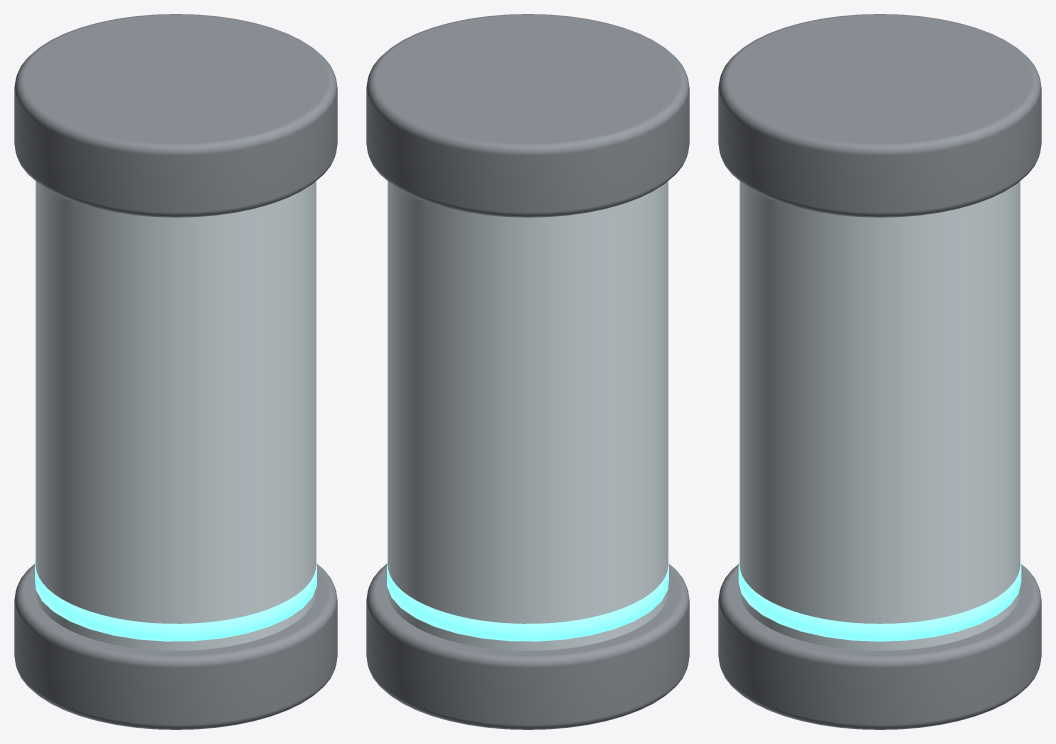
Rendered from ZH_ENV_SAMPLE_4_removable_sealed_vial.fbx.
The picture shows the model from 3 angles, left to right: view 1: azimuth 30°, elevation 25°; view 2: azimuth 150°, elevation 25°; view 3: azimuth 270°, elevation 25°; orthographic projection.
Visible parts, largest first — view 1: Specimen vessel | clear shell.005, Specimen vessel | cap.005, Specimen vessel | foot.005, Specimen vessel | seal.005; view 2: Specimen vessel | clear shell.005, Specimen vessel | cap.005, Specimen vessel | foot.005, Specimen vessel | seal.005; view 3: Specimen vessel | clear shell.005, Specimen vessel | cap.005, Specimen vessel | foot.005, Specimen vessel | seal.005.
Boxes of the visible parts, x1=… form: Specimen vessel | clear shell.005: x1=35, y1=181, x2=316, y2=650; Specimen vessel | cap.005: x1=14, y1=14, x2=337, y2=217; Specimen vessel | foot.005: x1=14, y1=564, x2=337, y2=729; Specimen vessel | seal.005: x1=35, y1=559, x2=316, y2=641; Specimen vessel | clear shell.005: x1=387, y1=181, x2=668, y2=650; Specimen vessel | cap.005: x1=366, y1=14, x2=689, y2=217; Specimen vessel | foot.005: x1=366, y1=564, x2=689, y2=729; Specimen vessel | seal.005: x1=387, y1=559, x2=668, y2=641; Specimen vessel | clear shell.005: x1=739, y1=181, x2=1020, y2=650; Specimen vessel | cap.005: x1=718, y1=14, x2=1041, y2=217; Specimen vessel | foot.005: x1=718, y1=564, x2=1041, y2=729; Specimen vessel | seal.005: x1=738, y1=561, x2=1021, y2=641.
Size of the model in its own units: 0.32 by 0.64 by 0.32.
